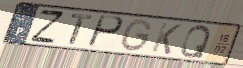G: (120, 18, 154, 54)
K: (149, 21, 183, 57)
P: (85, 14, 126, 50)
Q: (179, 24, 213, 60)
T: (68, 13, 94, 46)
Z: (28, 9, 67, 45)
